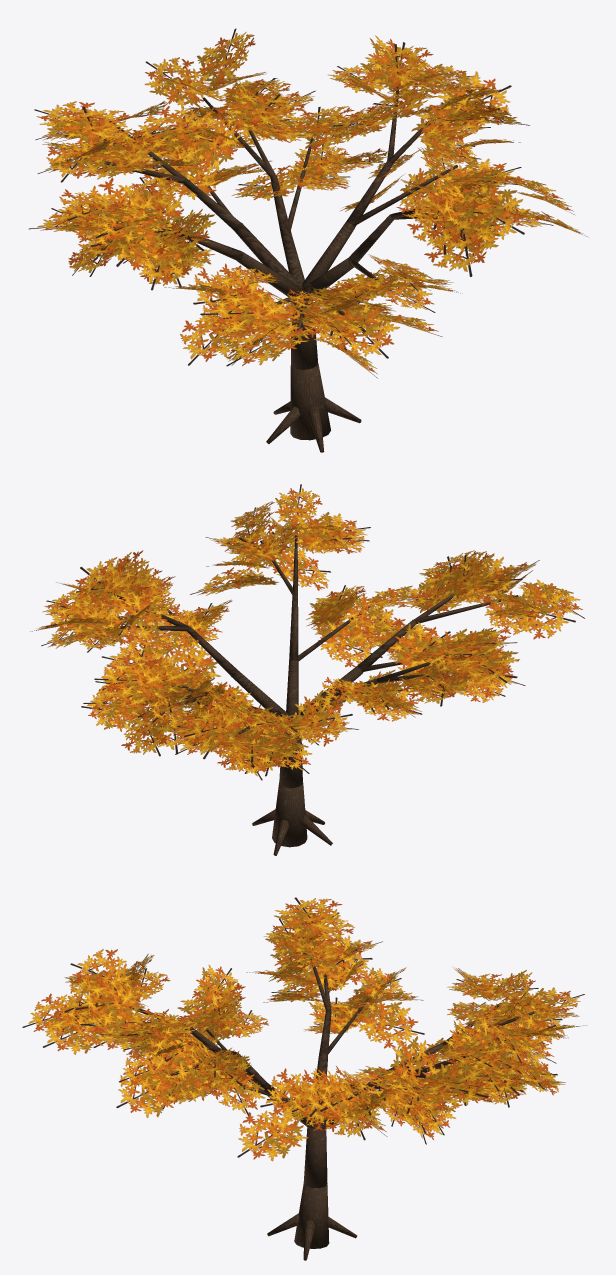
File: tree_maple_gold.glb
3 renders of one model, top to bottom at view 1: azimuth 30°, elevation 25°; view 2: azimuth 150°, elevation 25°; view 3: azimuth 270°, elevation 25°, orthographic. The views are drawn at different scales.
Parts seen in each view (by area): view 1: MapleFoliage, MapleTrunk; view 2: MapleFoliage, MapleTrunk; view 3: MapleFoliage, MapleTrunk.
Boxes of the visible parts, x1,y1,x2,y2 form: MapleFoliage: (29,28,587,378); MapleTrunk: (84,84,512,452); MapleFoliage: (30,484,584,780); MapleTrunk: (95,530,518,855); MapleFoliage: (22,897,587,1161); MapleTrunk: (75,959,534,1260).
Bounding box in the file's own units: 7.42 × 4.17 × 8.39.
Materials: 2 (2 with a texture image).
